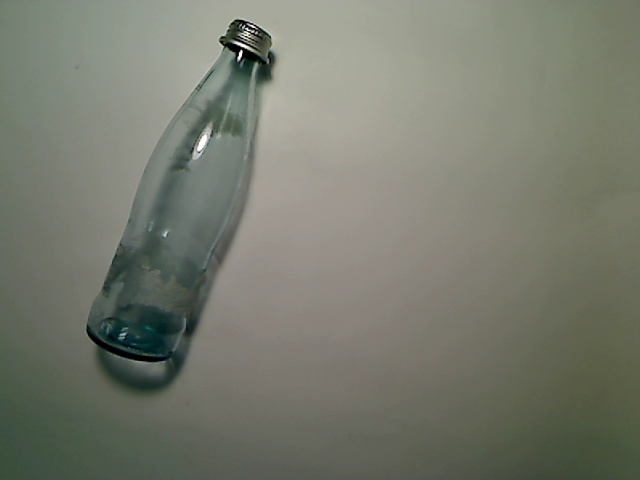bottle: (81, 18, 275, 360)
